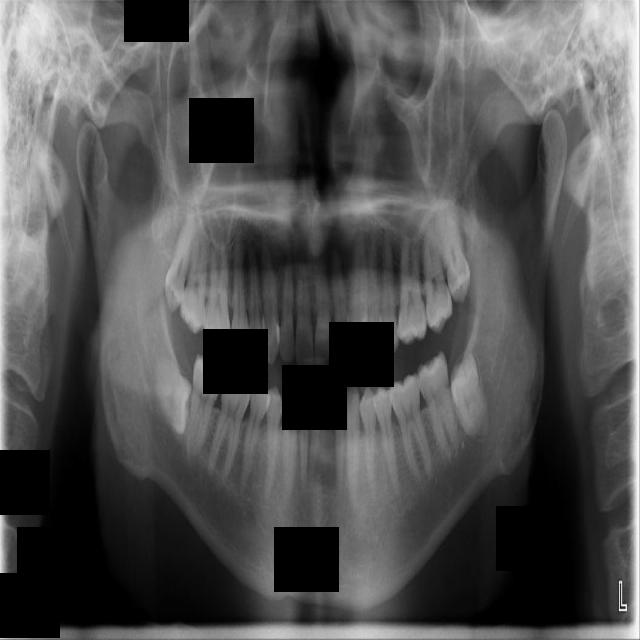3M ESPE Implant: (158, 202, 202, 315)
73: (610, 576, 616, 592)
BioHorizons Implant: (417, 215, 455, 335)
BioLife Implant: (429, 189, 476, 306)
Biomet 3i Implant: (443, 352, 496, 443)
Blue Sky Bio Implant: (412, 349, 461, 462)
Caries: (179, 224, 209, 335)
Implant: (184, 353, 225, 461)
Keystone Dental Implant: (149, 348, 198, 438)
